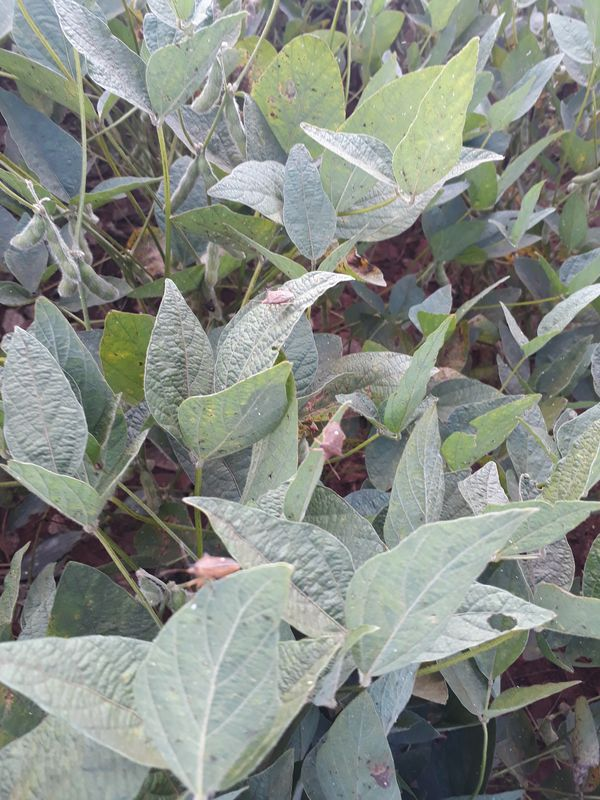Euschistus_heros_adulto: (167, 545, 246, 591), (307, 418, 355, 469), (251, 285, 298, 318), (363, 759, 399, 794)
